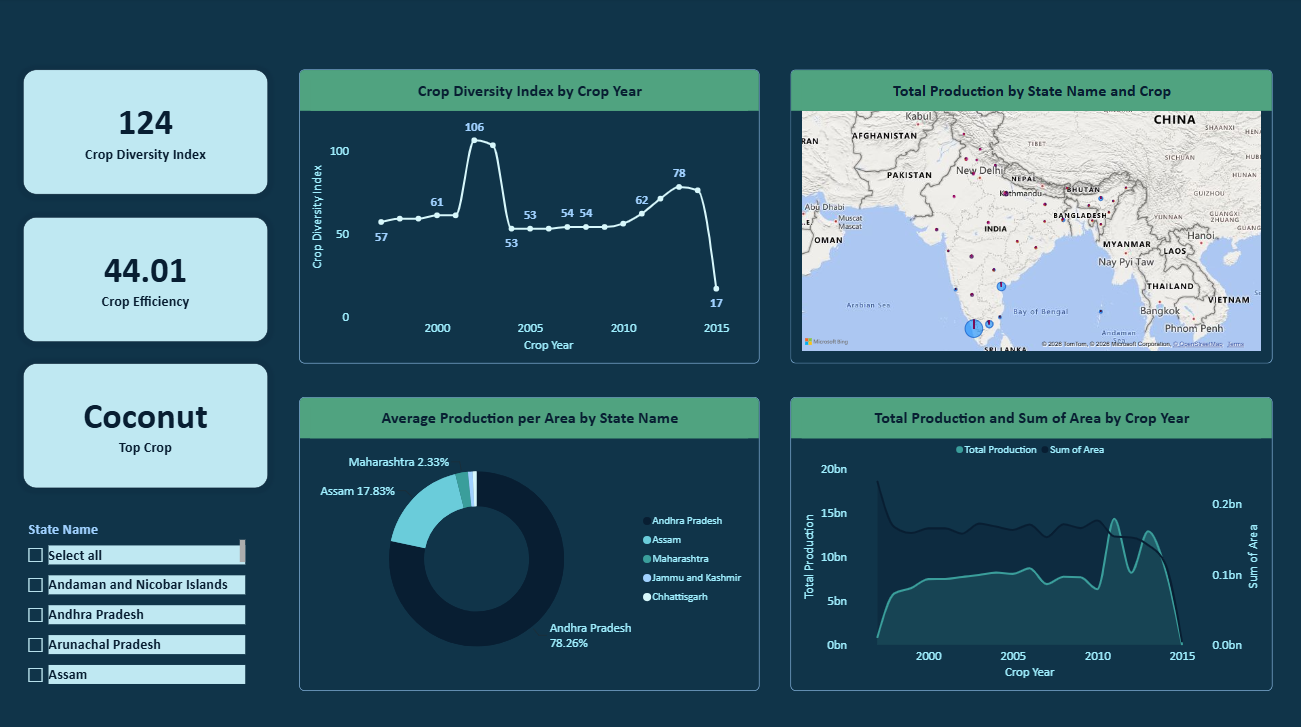

The dashboard page shown, as its layout file describes it:
{"tool":"powerbi","page":{"name":"Detailed Analysis","canvas":[1920,1080],"ordinal":1},"visuals":[{"type":"cardVisual","fields":{"Data":["Crop Production.Crop Diversity Index"]},"box":[37.5,107.3,361.2,184.2],"z":0},{"type":"cardVisual","fields":{"Data":["Crop Production.Crop Efficiency"]},"box":[37.5,323.6,361.2,184.2],"z":1000},{"type":"cardVisual","fields":{"Data":["Crop Production.Top Crop"]},"box":[37.5,540,361.2,184.2],"z":2000},{"type":"lineChart","fields":{"Category":["Crop Production.Crop Year"],"Y":["Crop Production.Crop Diversity Index"]},"box":[443.4,107.3,677.7,432.7],"z":3000},{"type":"map","fields":{"Category":["Crop Production.State Name"],"Series":["Crop Production.Crop"],"Size":["Crop Production.Total Production"]},"box":[1167.6,107.3,709.9,432.7],"z":4000},{"type":"pieChart","fields":{"Category":["Crop Production.State Name"],"Y":["Crop Production.Average Production per Area"]},"box":[443.4,588.3,677.7,432.7],"z":5000},{"type":"areaChart","fields":{"Category":["Crop Production.Crop Year"],"Y":["Crop Production.Total Production"],"Y2":["Sum(Crop Production.Area)"]},"box":[1167.6,588.3,709.9,432.7],"z":6000},{"type":"slicer","fields":{"Values":["Crop Production.State Name"]},"box":[37.5,770.6,327.2,250.3],"z":7000}]}

Visuals, with their boxes in screenshot pixels (x1, y1, x2, y2), scaled from the page's 1920x1080 canvas onto the 1301x727 screenshot:
cardVisual - Crop Production.Crop Diversity Index: Rect(25, 72, 270, 196)
cardVisual - Crop Production.Crop Efficiency: Rect(25, 218, 270, 342)
cardVisual - Crop Production.Top Crop: Rect(25, 364, 270, 487)
lineChart - Crop Production.Crop Year x Crop Production.Crop Diversity Index: Rect(300, 72, 760, 364)
map - Crop Production.State Name x Crop Production.Crop: Rect(791, 72, 1272, 364)
pieChart - Crop Production.State Name x Crop Production.Average Production per Area: Rect(300, 396, 760, 687)
areaChart - Crop Production.Crop Year x Crop Production.Total Production: Rect(791, 396, 1272, 687)
slicer - Crop Production.State Name: Rect(25, 519, 247, 687)
